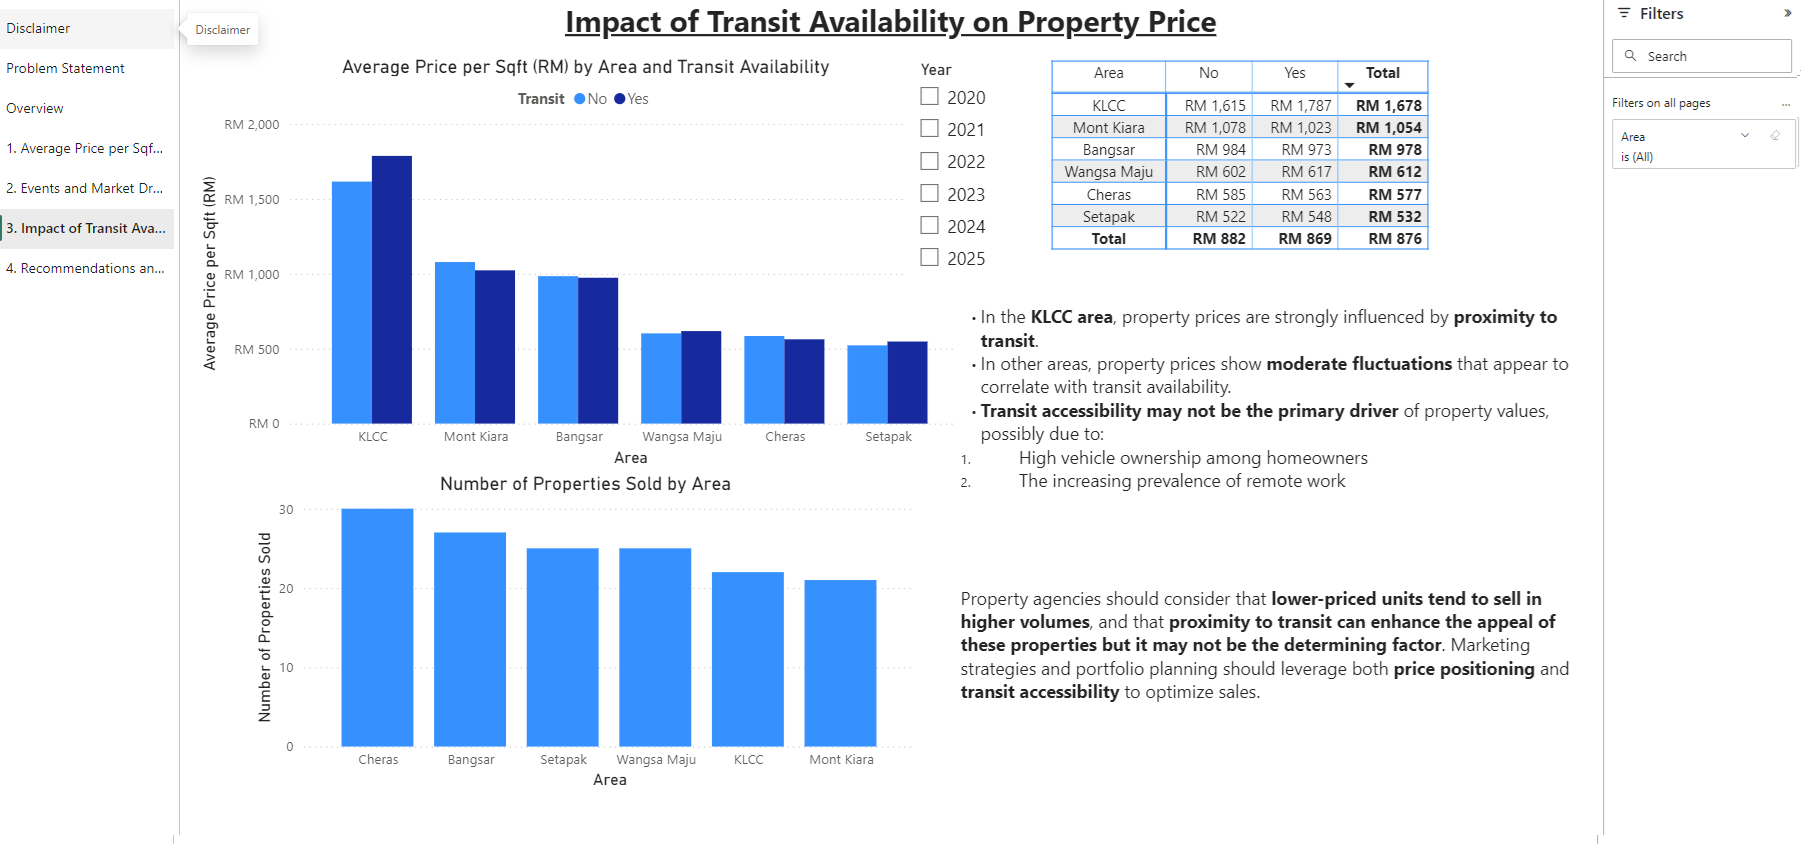

The page's visual inventory and layout, read from the dashboard file:
{"tool":"powerbi","page":{"name":"3. Impact of Transit Availability on Property Price","canvas":[1280,720],"ordinal":5},"visuals":[{"type":"textbox","box":[135.2,0,1008.6,54.5],"z":0},{"type":"clusteredColumnChart","title":"Average Price per Sqft (RM) by Area and Transit Availability","fields":{"Category":["kl_housing_prices_2020_2025_synthetic.location"],"Series":["kl_housing_prices_2020_2025_synthetic.near_transit"],"Y":["kl_housing_prices_2020_2025_synthetic.Average Price per Sqft (RM)"]},"box":[13.5,54.9,703.2,374.9],"z":1000},{"type":"pivotTable","fields":{"Columns":["kl_housing_prices_2020_2025_synthetic.near_transit"],"Rows":["kl_housing_prices_2020_2025_synthetic.location"],"Values":["kl_housing_prices_2020_2025_synthetic.Average Price per Sqft (RM)"]},"box":[778.8,54.9,358.3,192.6],"z":2000},{"type":"slicer","fields":{"Values":["Date Table.Date.Variation.Date Hierarchy.Year"]},"box":[653.5,54.9,125.3,247.5],"z":3000},{"type":"textbox","box":[697,274.4,560.3,426.7],"z":4000},{"type":"clusteredColumnChart","title":"Number of Properties Sold by Area","fields":{"Y":["CountNonNull(kl_housing_prices_2020_2025_synthetic.location)"],"Category":["kl_housing_prices_2020_2025_synthetic.location"]},"box":[63.2,429.8,603.8,290],"z":5000}]}

Visuals, with their boxes on the page's 1280x720 design canvas (x1, y1, x2, y2). These are canvas units, not pixel positions in the 1801x844 screenshot, which may show the page scaled, cropped or inside an application window:
textbox: select_region(135, 0, 1144, 54)
"Average Price per Sqft (RM) by Area and Transit Availability" clusteredColumnChart: select_region(14, 55, 717, 430)
pivotTable - kl_housing_prices_2020_2025_synthetic.near_transit x kl_housing_prices_2020_2025_synthetic.location: select_region(779, 55, 1137, 248)
slicer - Date Table.Date.Variation.Date Hierarchy.Year: select_region(654, 55, 779, 302)
textbox: select_region(697, 274, 1257, 701)
"Number of Properties Sold by Area" clusteredColumnChart: select_region(63, 430, 667, 720)
